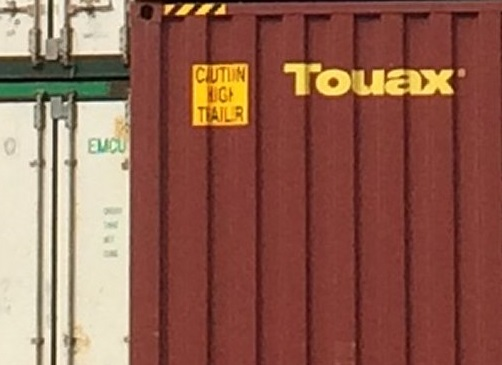container_no_door: (131, 1, 500, 362)
